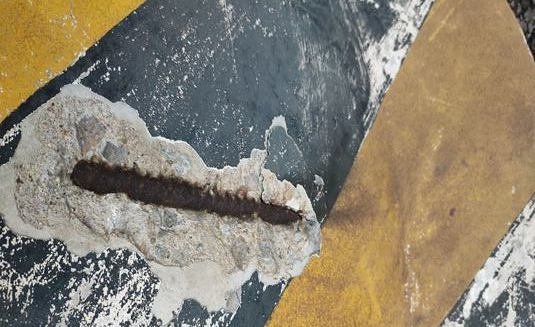Exposed reinforcement: (70, 159, 303, 226)
Spalling: (1, 83, 324, 327)
